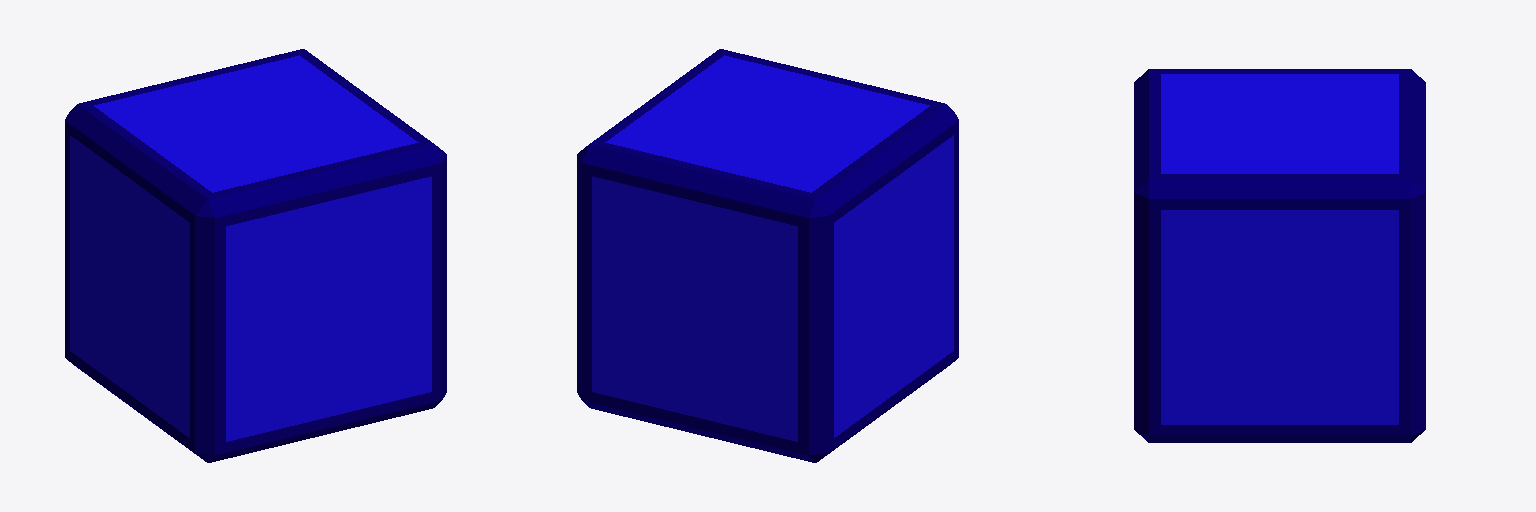
Rendered from fig6_cub_blue.obj.
The picture shows the model from 3 angles: view 1: azimuth 30°, elevation 25°; view 2: azimuth 150°, elevation 25°; view 3: azimuth 270°, elevation 25°; orthographic projection.
Visible parts, largest first — view 1: Cube; view 2: Cube; view 3: Cube.
Part boxes in pixels (left/top/right/bottom): Cube: left=65, top=49, right=446, bottom=462; Cube: left=577, top=49, right=958, bottom=462; Cube: left=1134, top=69, right=1425, bottom=442.
Bounding box in the file's own units: 2 × 2 × 2.